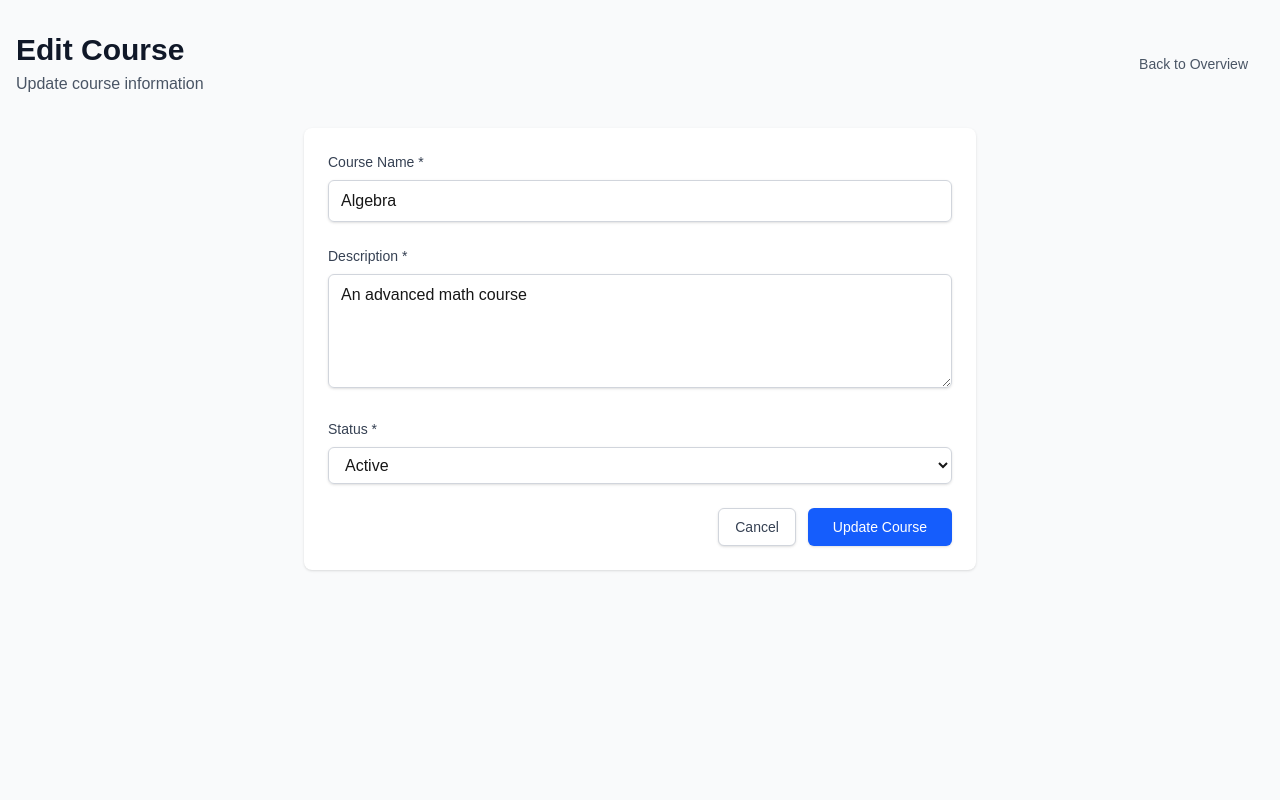
Test case: EditCoursePage › shows error if update fails
Expected: the field showing "Algebra" is shown, [328,180,952,222]
Click the button "Update Course" at (880, 527), box [808,508,952,546]
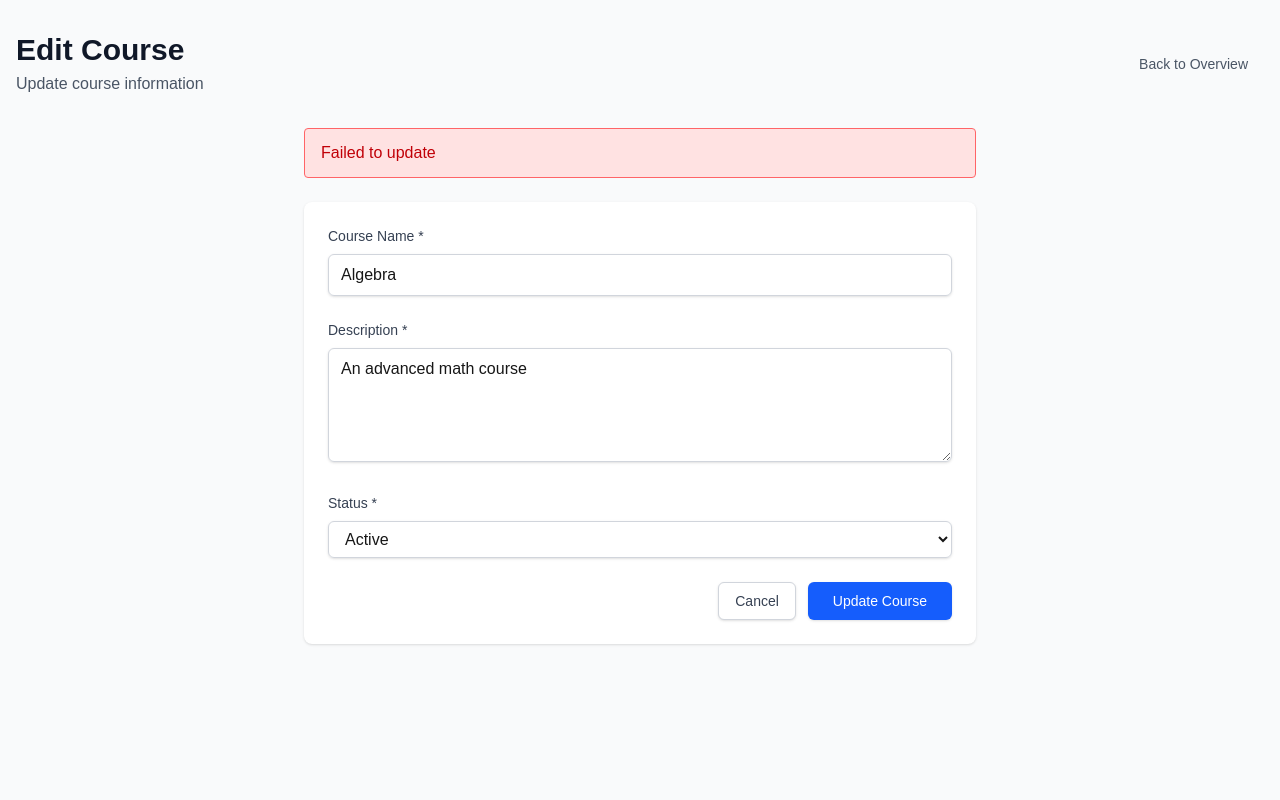
Expected: the text "Failed to update" is shown, [304,128,976,178]
